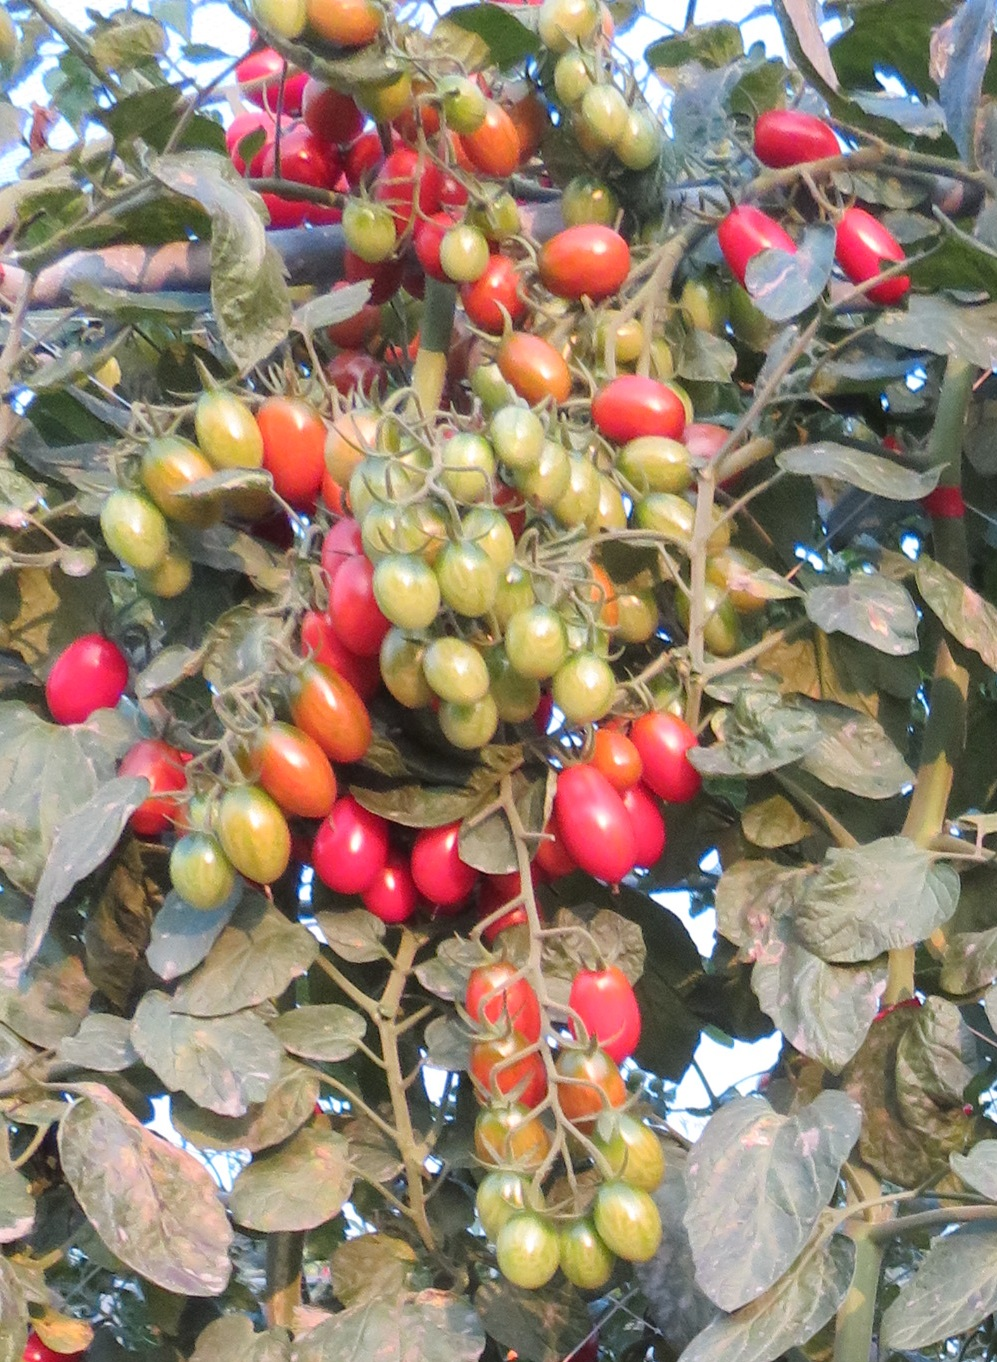green: (213, 788, 303, 885), (586, 1177, 678, 1265), (486, 1208, 568, 1294), (193, 392, 269, 480), (593, 1116, 675, 1191), (367, 560, 455, 629), (164, 833, 230, 913), (440, 539, 502, 620), (98, 499, 167, 567), (552, 657, 618, 723), (423, 644, 491, 705), (616, 441, 709, 485), (505, 612, 565, 678), (436, 226, 493, 289), (561, 174, 620, 234), (348, 201, 398, 270), (579, 82, 630, 149), (540, 1, 605, 53), (571, 441, 606, 529), (486, 405, 536, 464), (616, 594, 671, 647), (441, 705, 499, 753), (561, 1227, 605, 1289), (436, 77, 485, 125), (629, 102, 658, 171), (533, 449, 567, 505)
orange: (289, 661, 372, 765), (258, 722, 336, 827), (531, 225, 630, 291), (257, 395, 326, 487), (588, 378, 689, 439), (492, 330, 571, 401), (472, 112, 524, 185), (585, 725, 644, 787)
red: (551, 763, 636, 882), (38, 636, 126, 732), (836, 215, 919, 308), (564, 965, 638, 1057), (313, 798, 382, 891), (714, 203, 796, 274), (751, 113, 843, 168), (414, 827, 464, 905)
